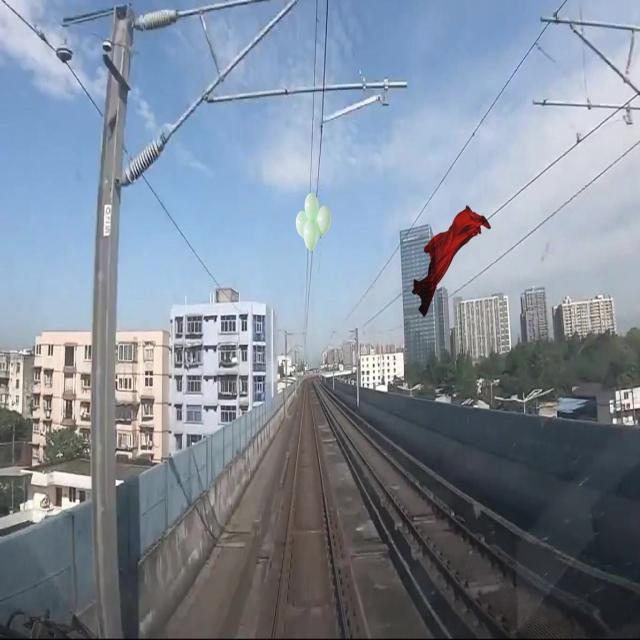balloon: (295, 192, 331, 250)
floating object: (407, 210, 488, 317)
